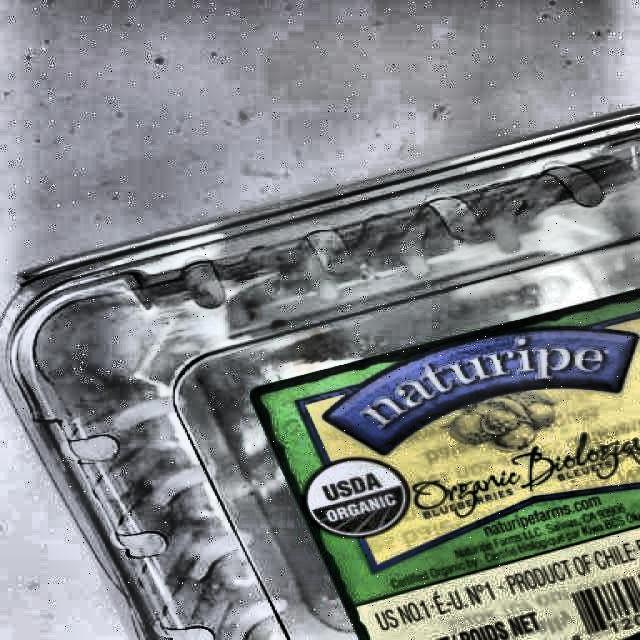plastic: (0, 110, 640, 640)
